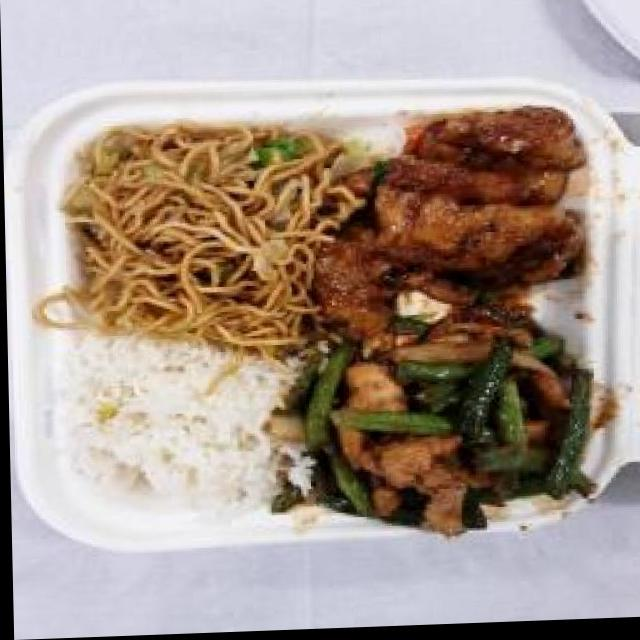Chow Mein: (60, 115, 344, 341)
String Bean Chicken Breast: (289, 306, 606, 538)
The Original Orange Chicken: (352, 106, 604, 316)
White Steamed Rice: (71, 335, 289, 511)
